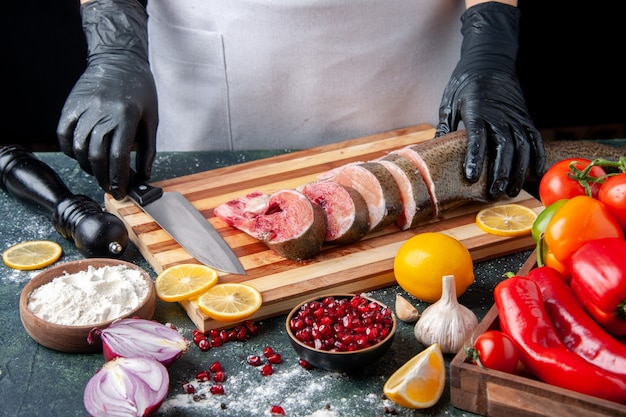knife: (125, 167, 247, 276)
